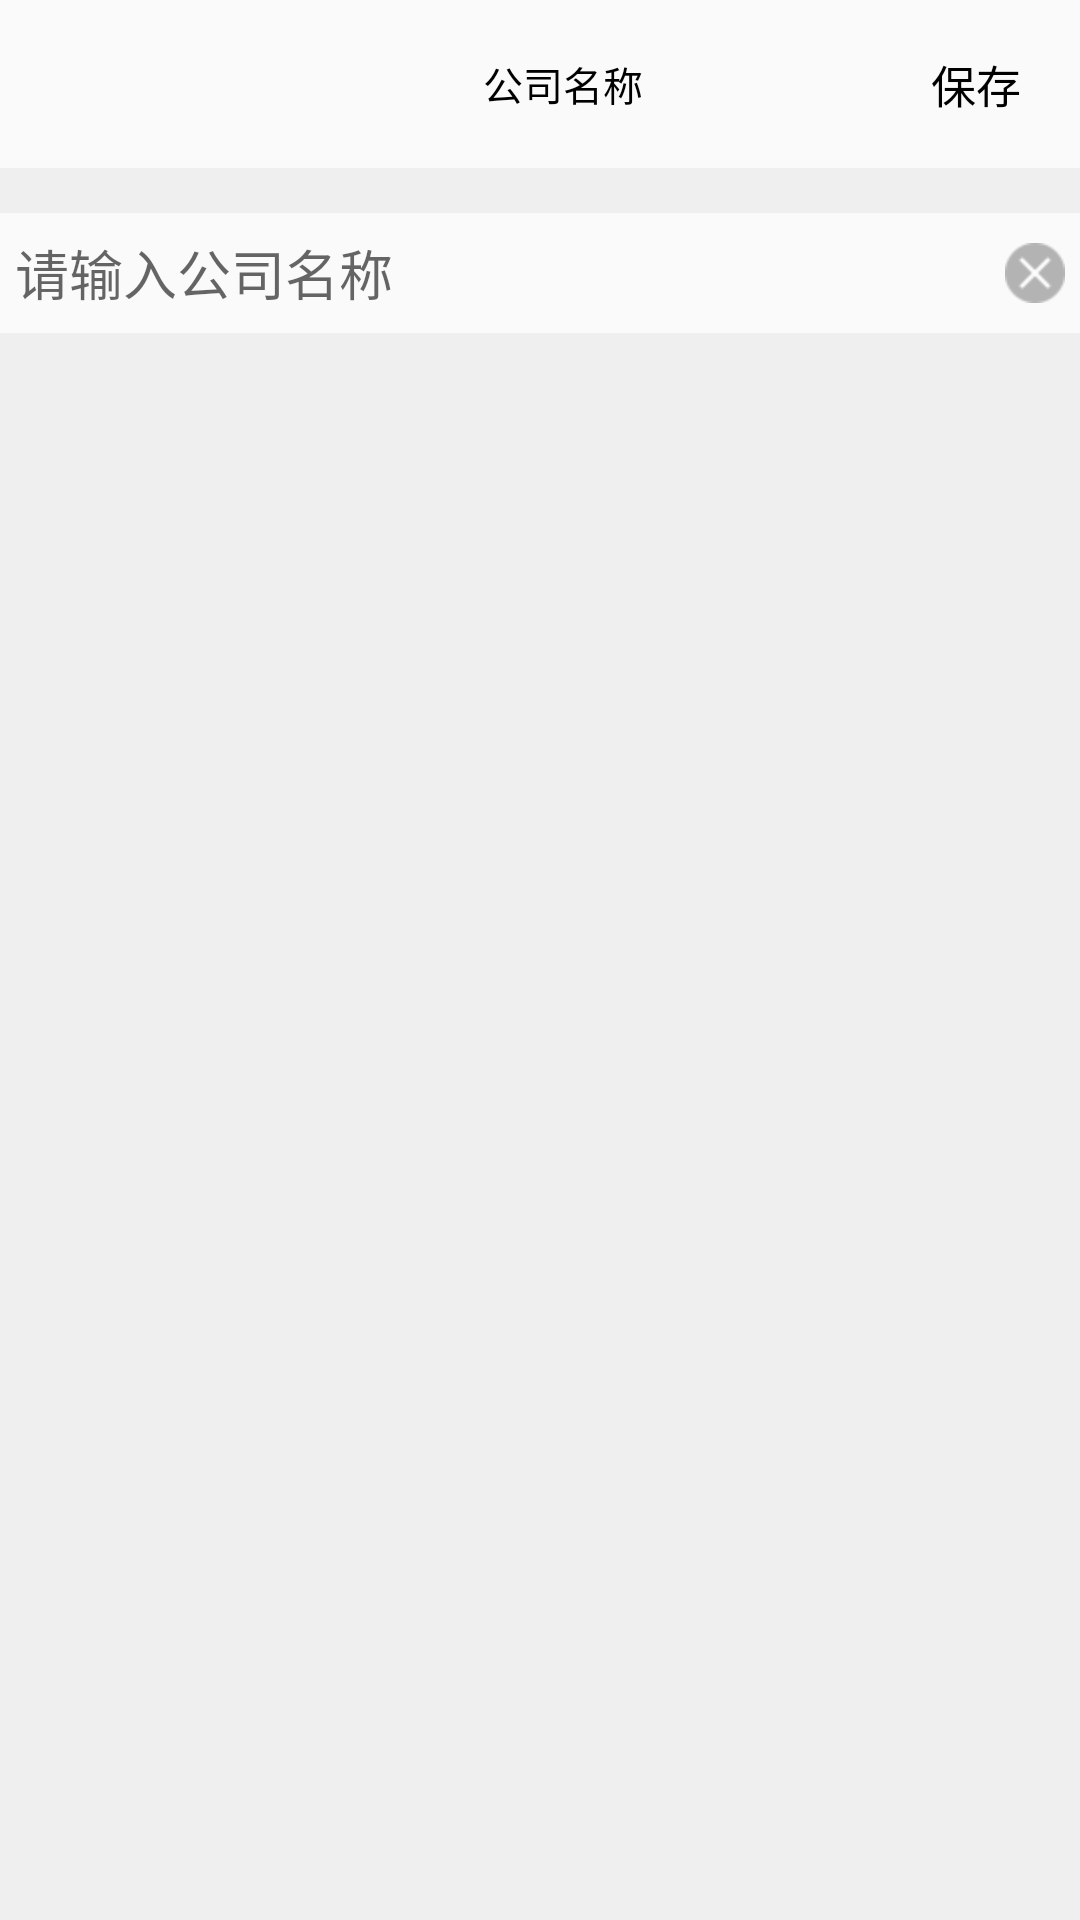

Where to tap for icons on this 1080px x 1920px app screen, as (x,y):
delete: (1035,273)
